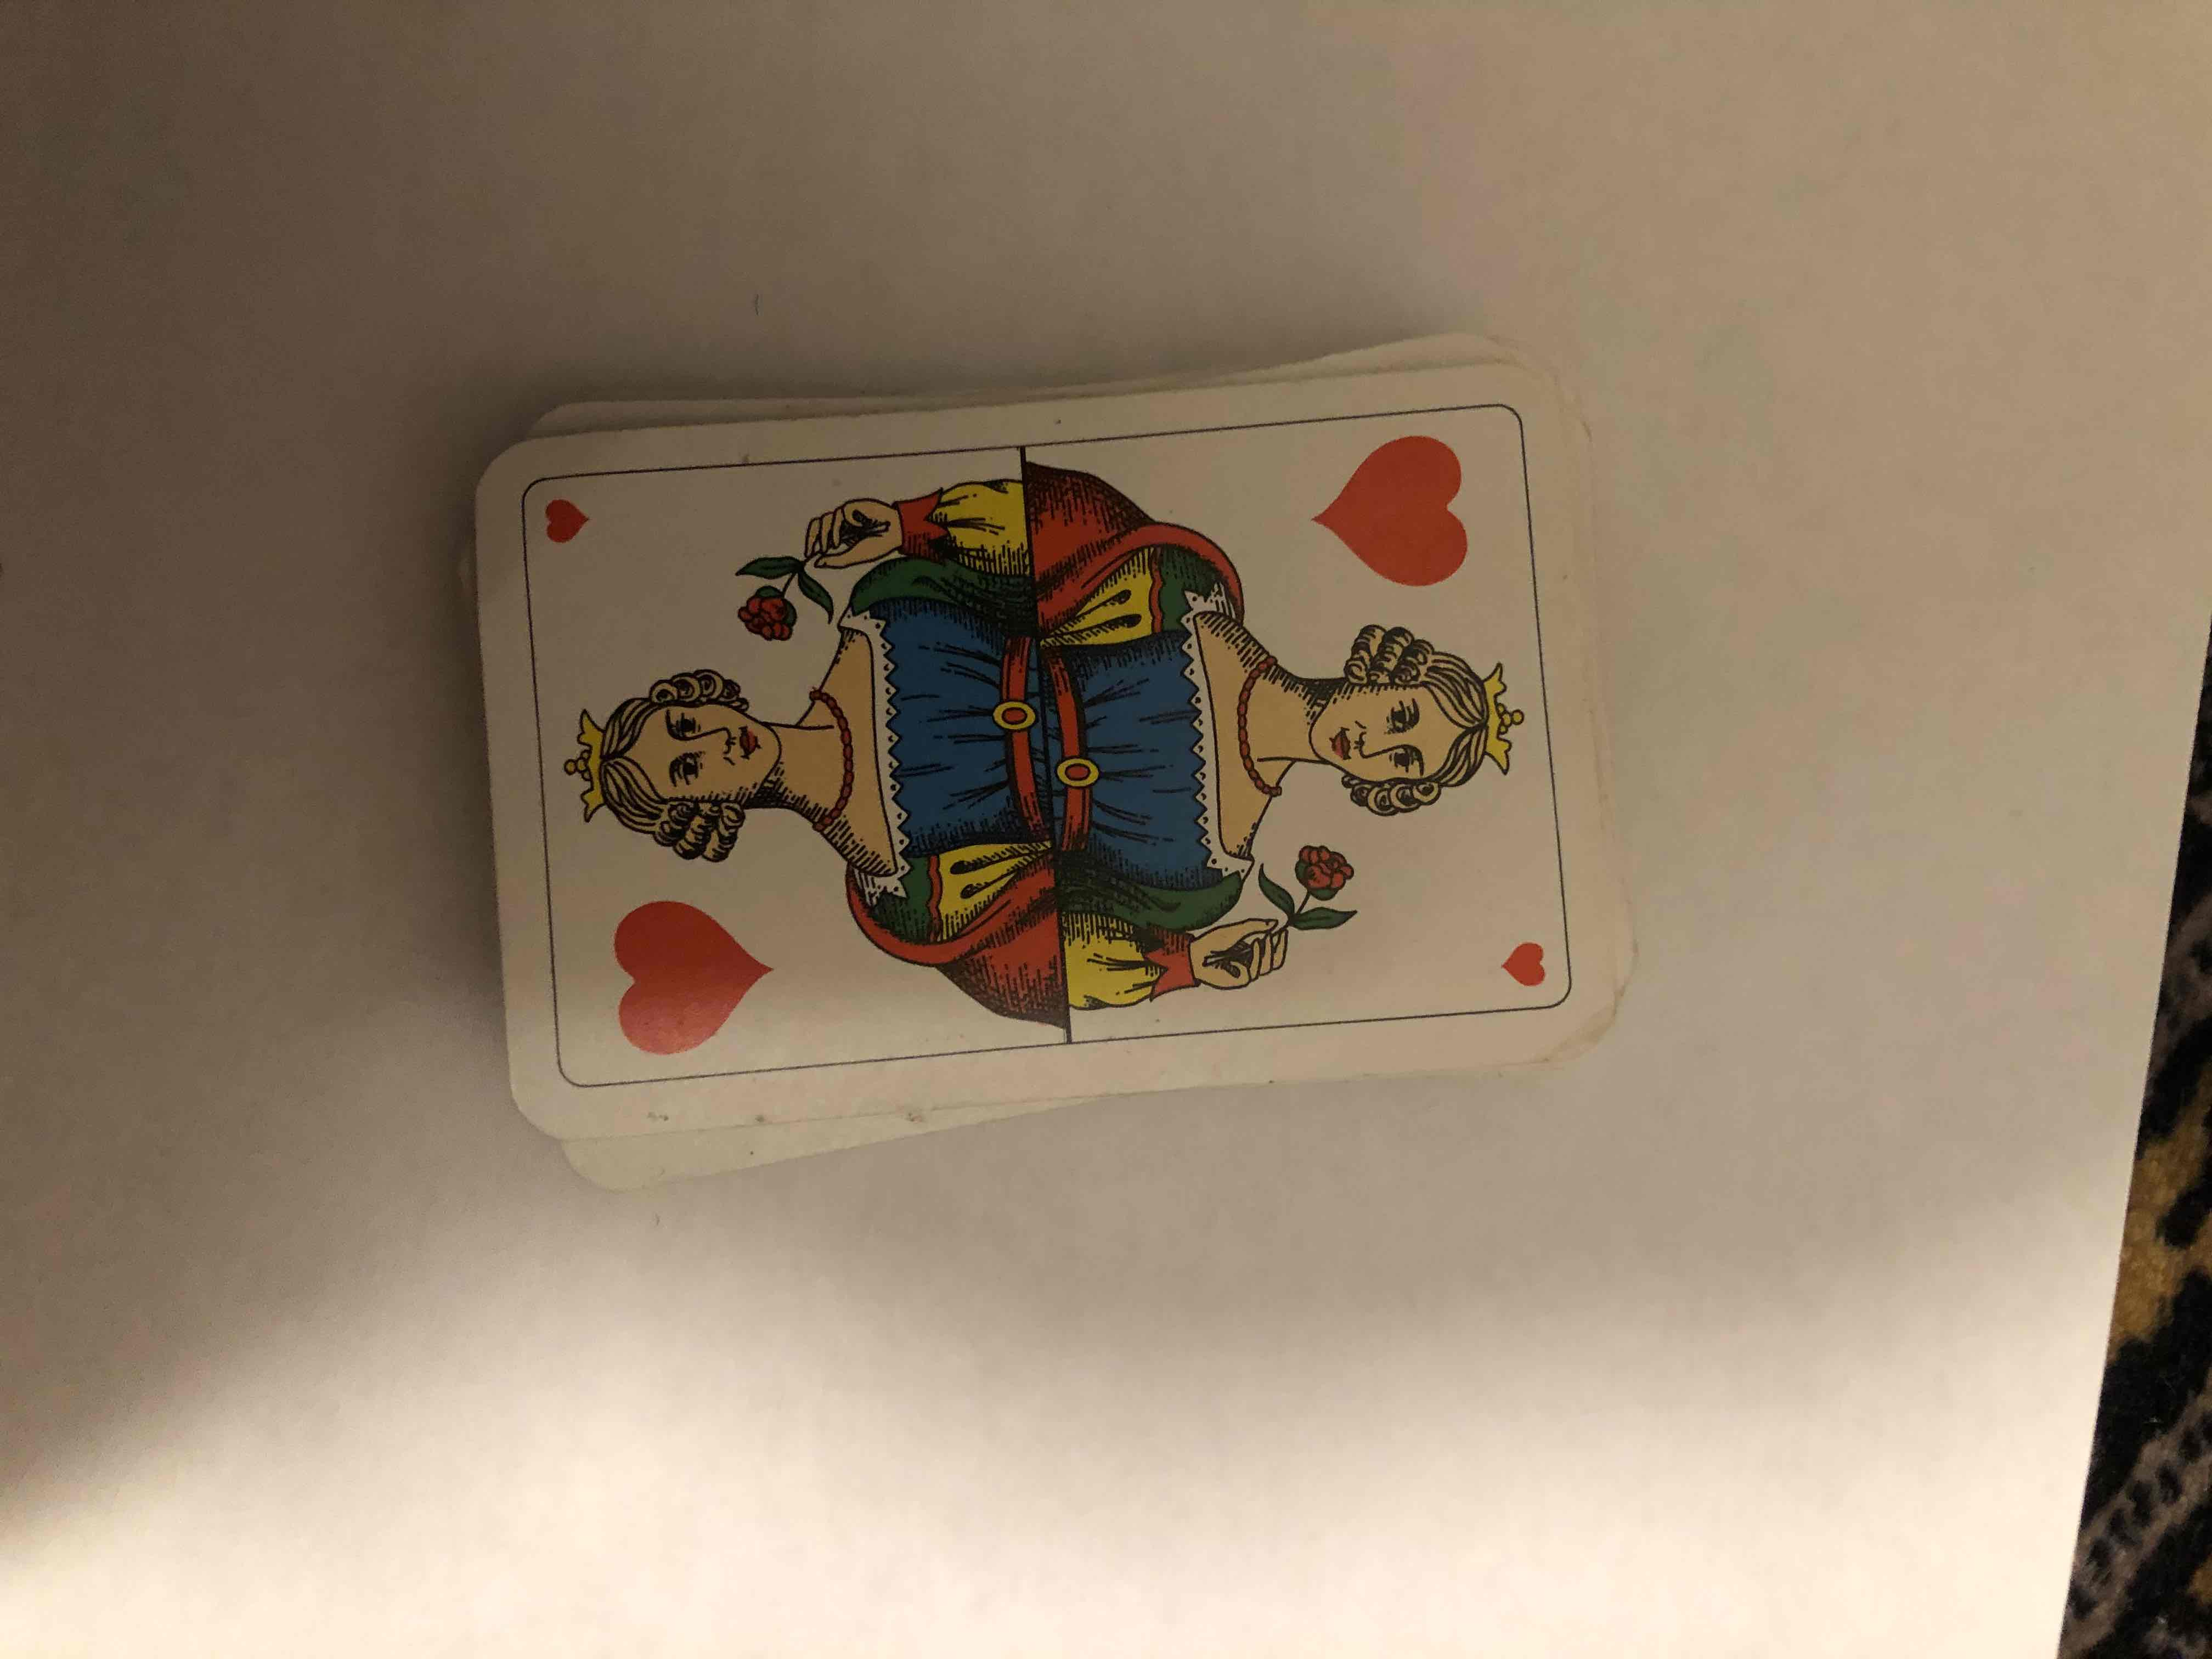heartsQueen: (509, 322, 1620, 1091)
